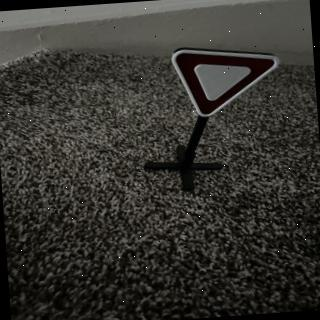sign_yield: (171, 42, 285, 122)
